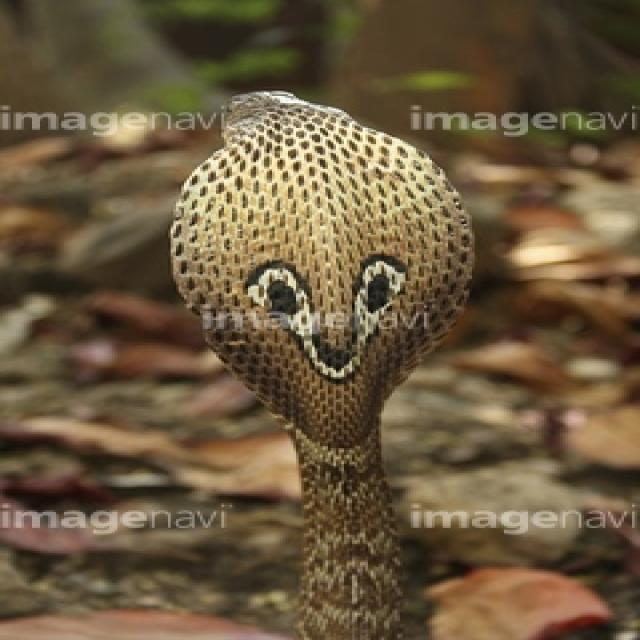Snake: (165, 87, 478, 638)
